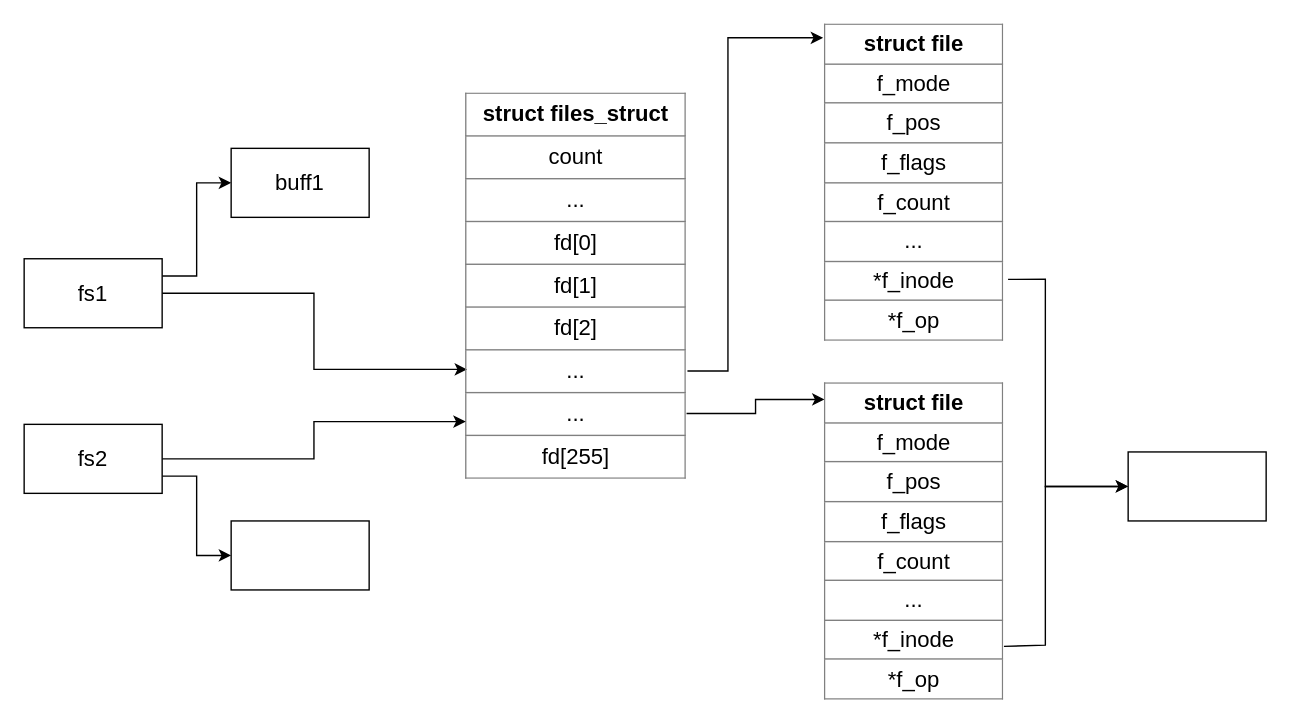
Some shapes in this 1290 by 723 pixel diagram are drawn without their labels. Each missing label, with the box of its shape:
buff2: (230, 520, 369, 590)
file inode: (1127, 451, 1266, 521)
